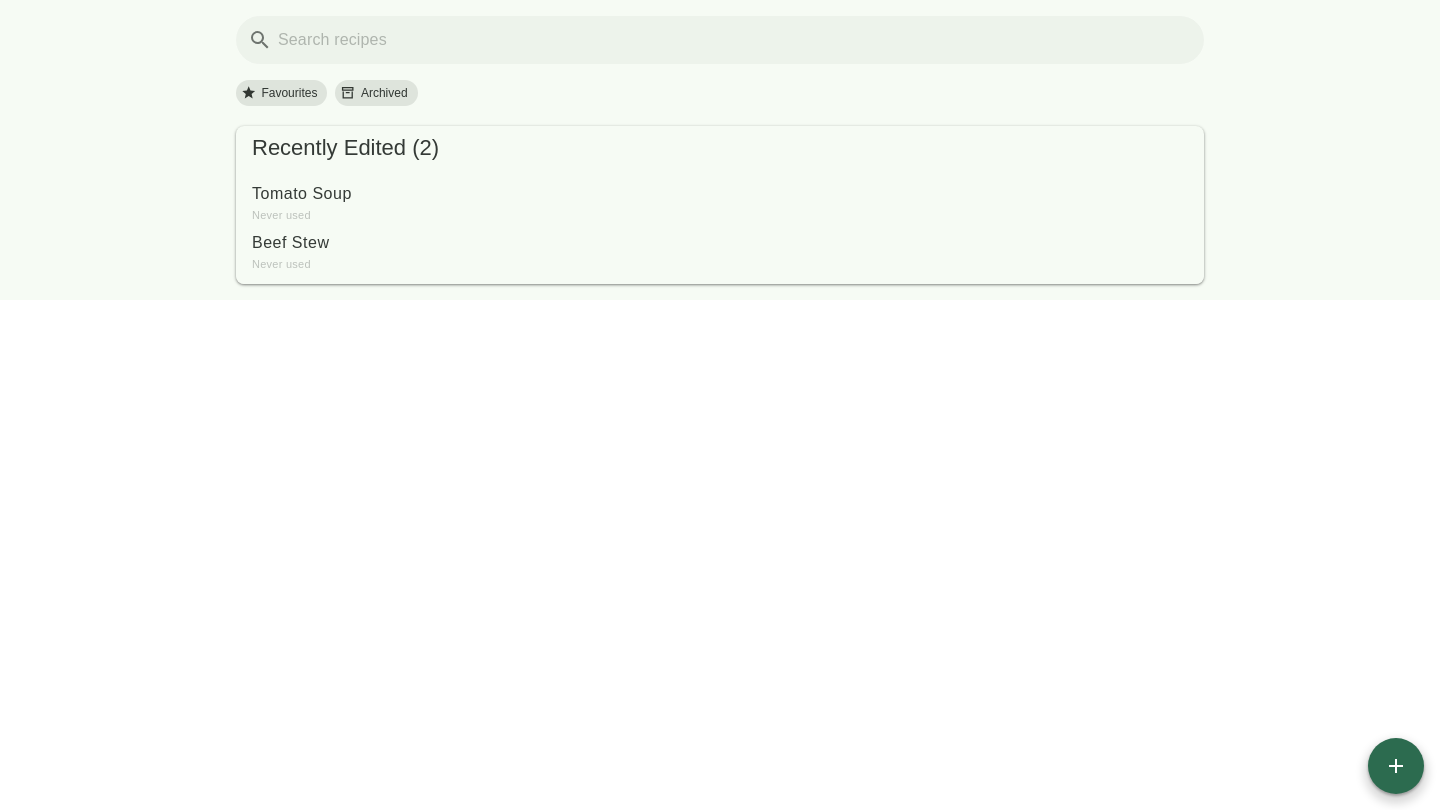
RecipesView search filtering › filters recipes case-insensitively by name
The width and height of the screenshot is (1440, 810).
Type "tomato" into the field with placeholder "Search recipes" at [732, 40], box [272,16,1192,64]
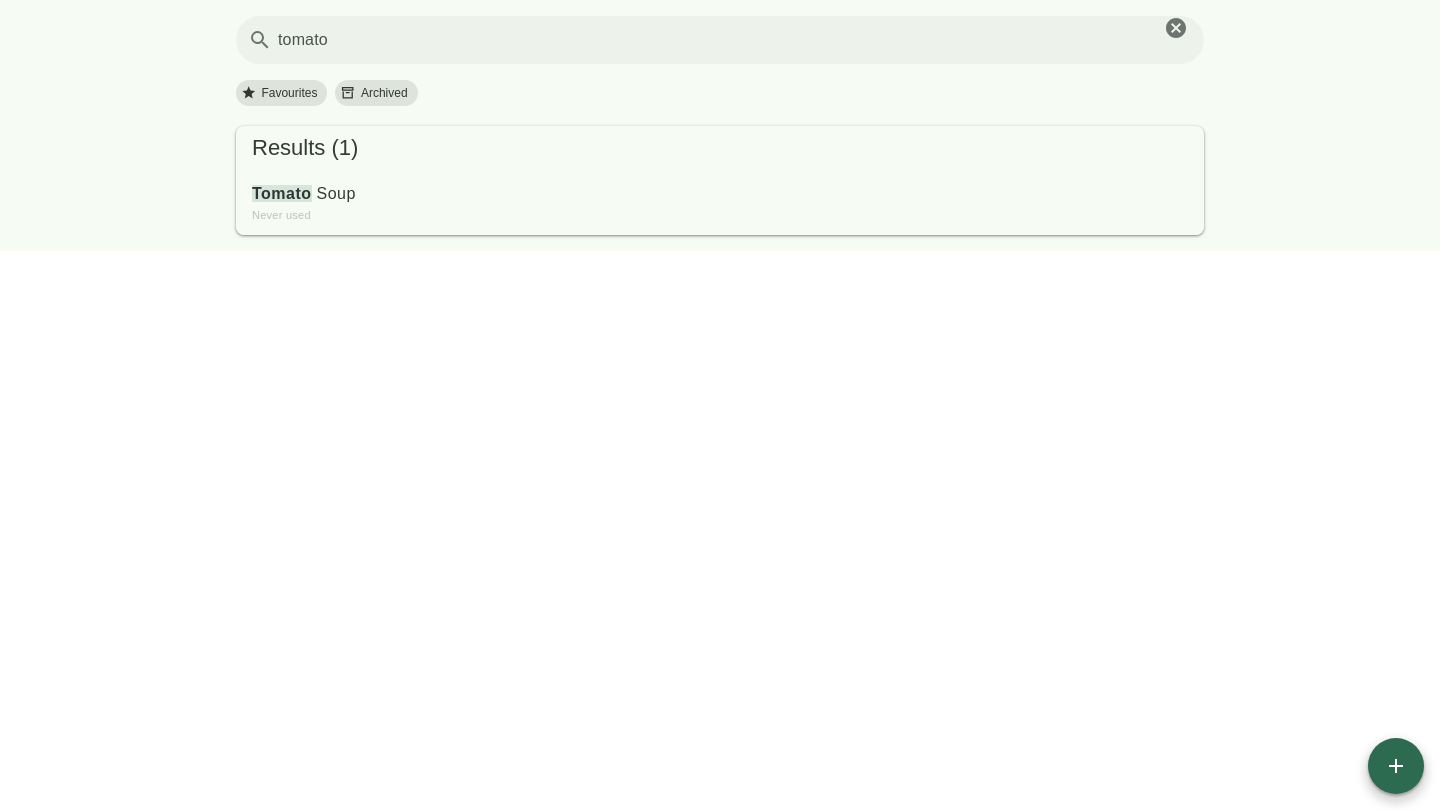
Expected: the list item "Tomato Soup Never used" is shown, [252,185,356,221]
Now the number of list items is 1, box [252,185,356,221]
